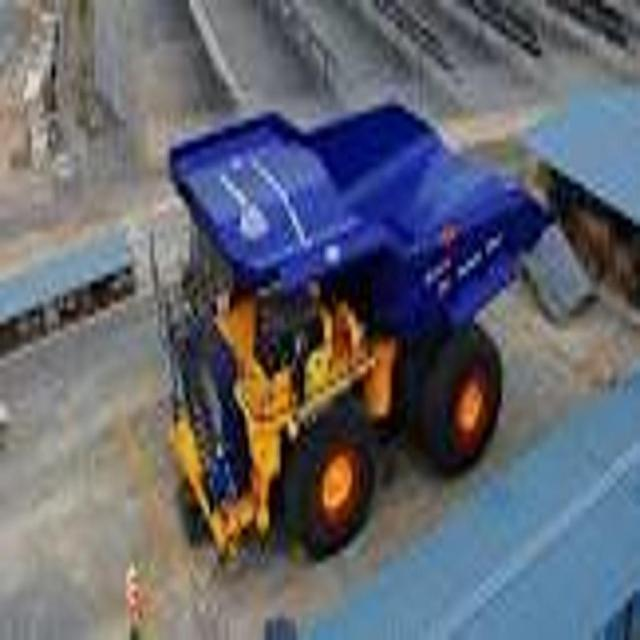dump_truck: (163, 96, 554, 563)
